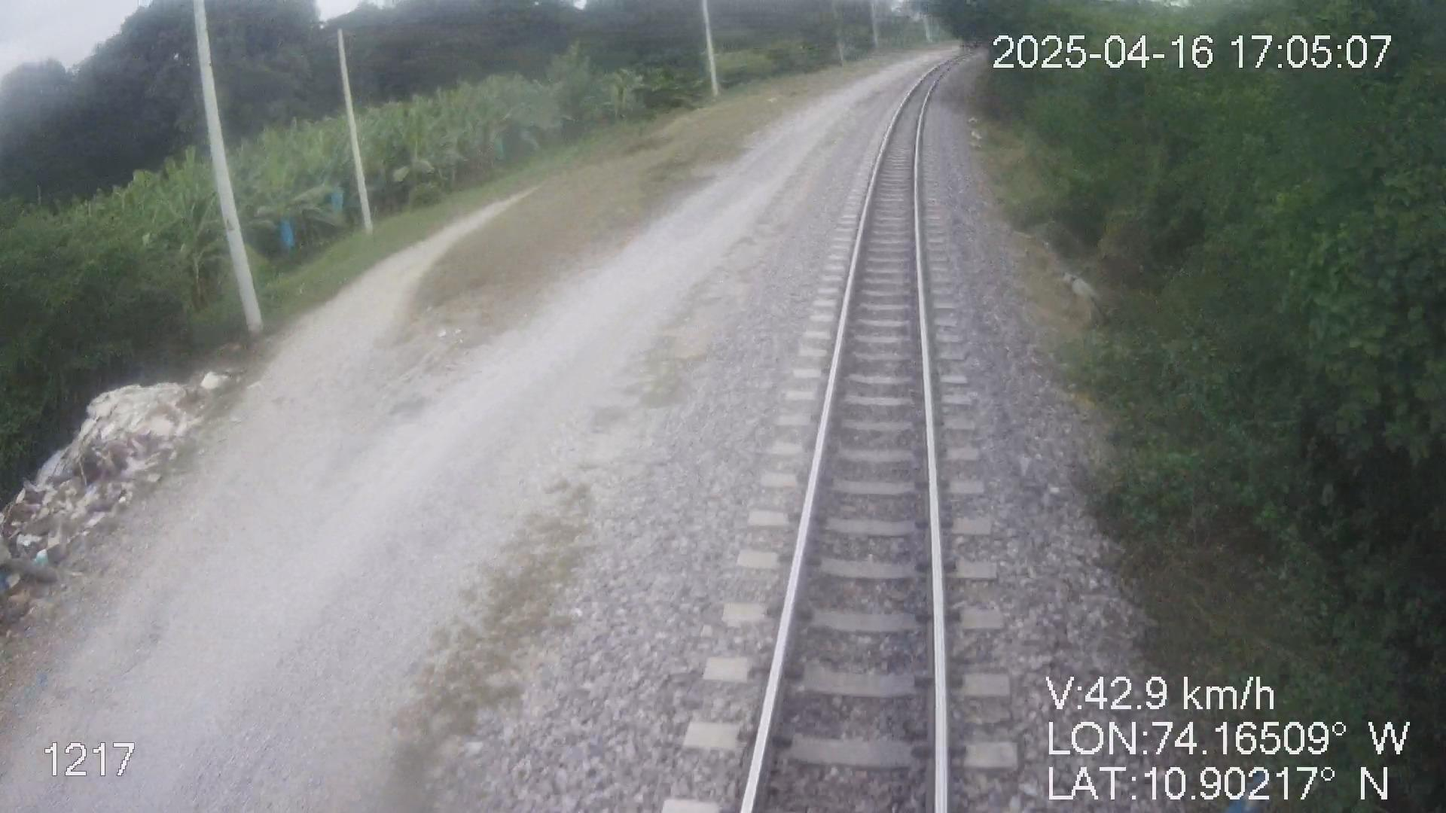Pasto: (0, 0, 921, 510), (921, 0, 1445, 812)
